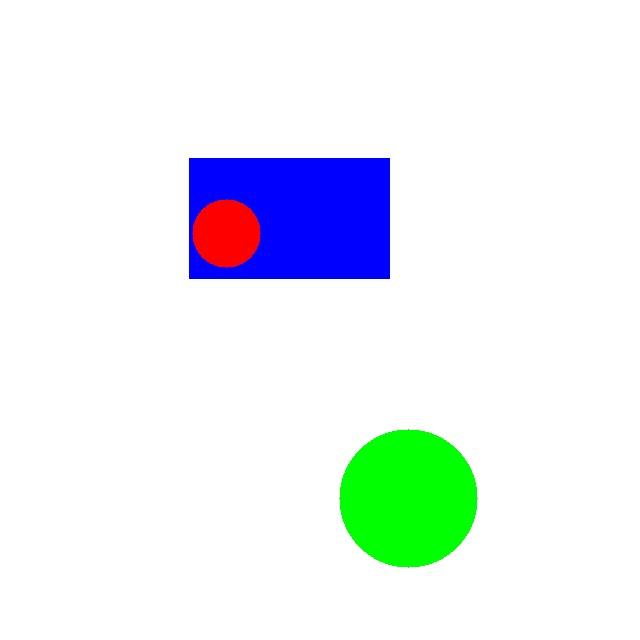cartao: (189, 158, 389, 278)
rosca_externa: (339, 429, 477, 567)
rosca_interna: (192, 199, 260, 267)
